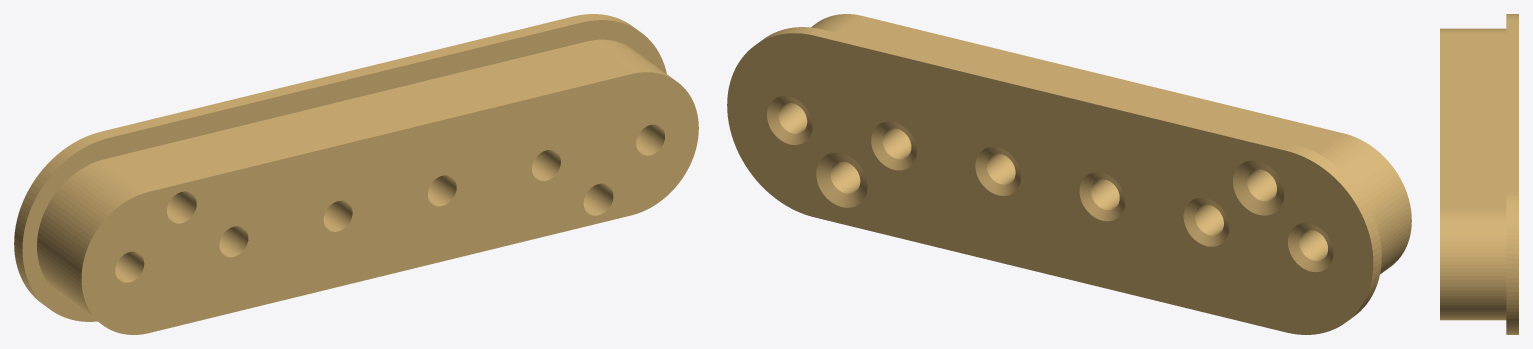
Rendered from brass-ferrule-block.glb.
The picture shows the model from 3 angles, left to right: view 1: azimuth 30°, elevation 25°; view 2: azimuth 150°, elevation 25°; view 3: azimuth 270°, elevation 25°; orthographic projection. The views are drawn at different scales.
Visible parts, largest first — view 1: Ferrule_Block_10.8mm; view 2: Ferrule_Block_10.8mm; view 3: Ferrule_Block_10.8mm.
Boxes of the visible parts, box(x1,y1,x2,y2) form: Ferrule_Block_10.8mm: box(14, 14, 698, 334); Ferrule_Block_10.8mm: box(727, 14, 1411, 334); Ferrule_Block_10.8mm: box(1440, 14, 1518, 334).
Bounding box in the file's own units: 0.067 × 0.018 × 0.0095.
